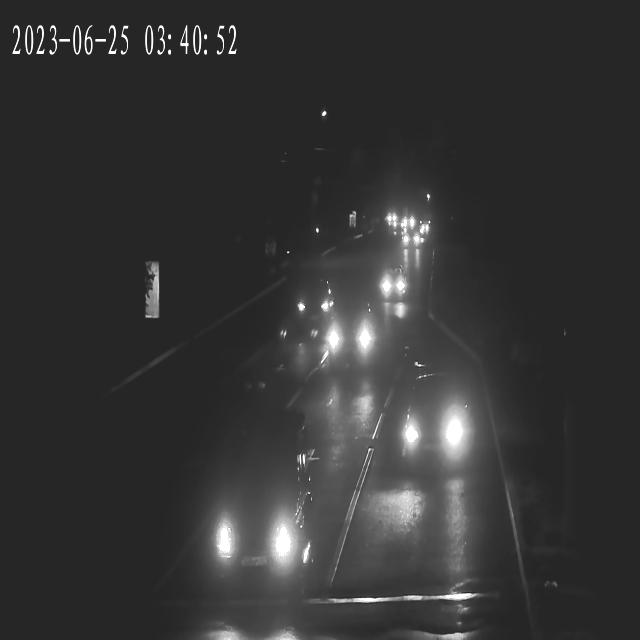Car: (195, 460, 318, 588), (391, 378, 477, 466), (316, 308, 384, 369), (288, 280, 336, 324), (374, 270, 408, 302), (399, 233, 422, 250)
